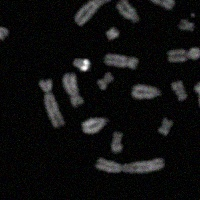chromosome: (39, 79, 65, 128), (94, 157, 163, 172), (74, 0, 113, 25), (63, 72, 84, 107), (104, 52, 138, 69), (116, 0, 138, 23), (167, 46, 200, 61), (131, 84, 162, 99), (82, 117, 109, 134), (125, 0, 174, 9), (172, 80, 187, 101), (71, 57, 90, 71), (111, 132, 123, 154), (98, 72, 113, 89), (157, 118, 172, 135), (193, 81, 200, 116), (0, 15, 9, 40), (178, 19, 193, 32), (106, 28, 119, 40)
